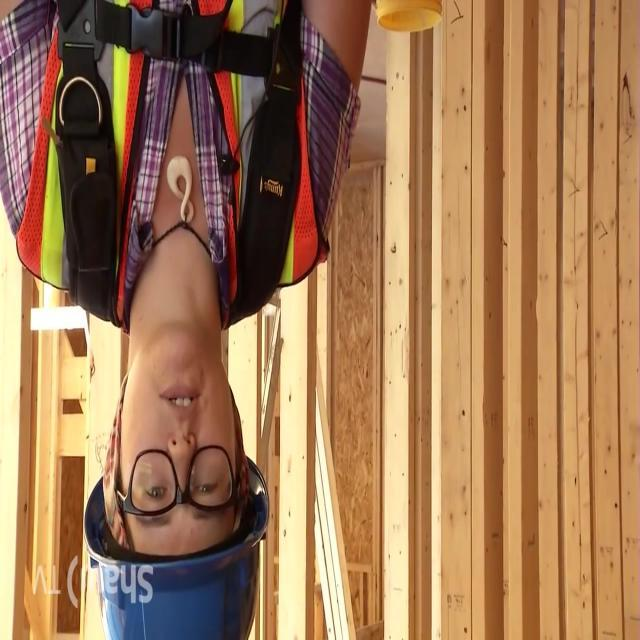safetyhelmet: (76, 436, 286, 636)
